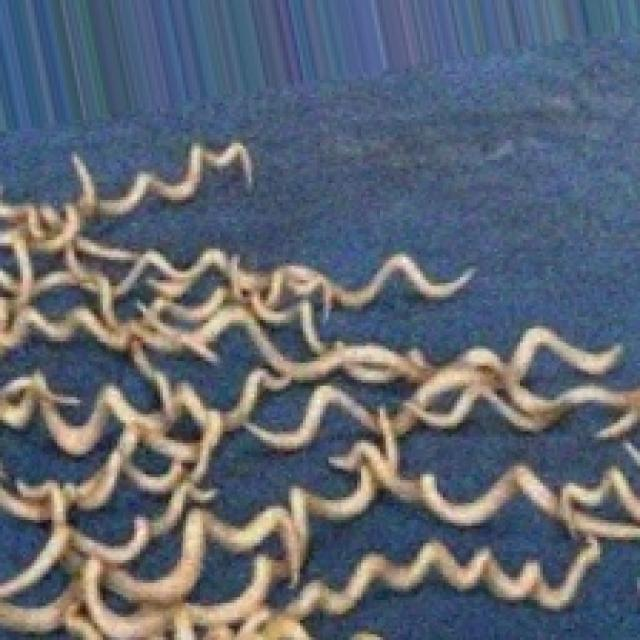Spiral_bacteria: (0, 132, 637, 637)
